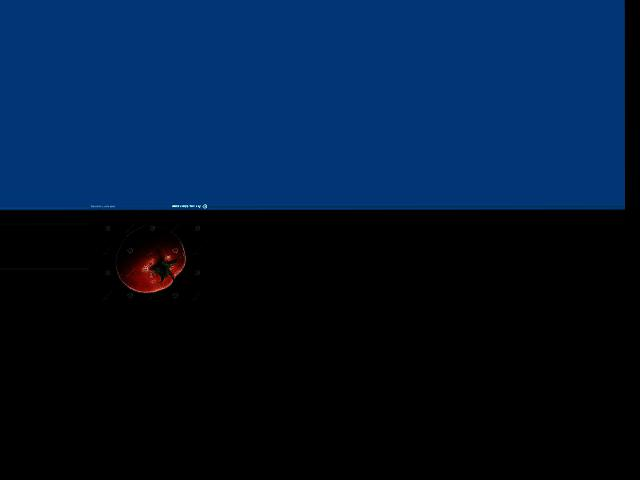tomato: (114, 225, 186, 292)
